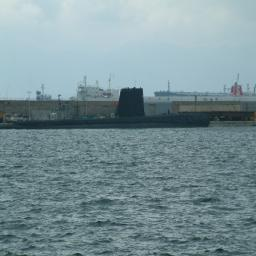submarine: (15, 89, 215, 131)
